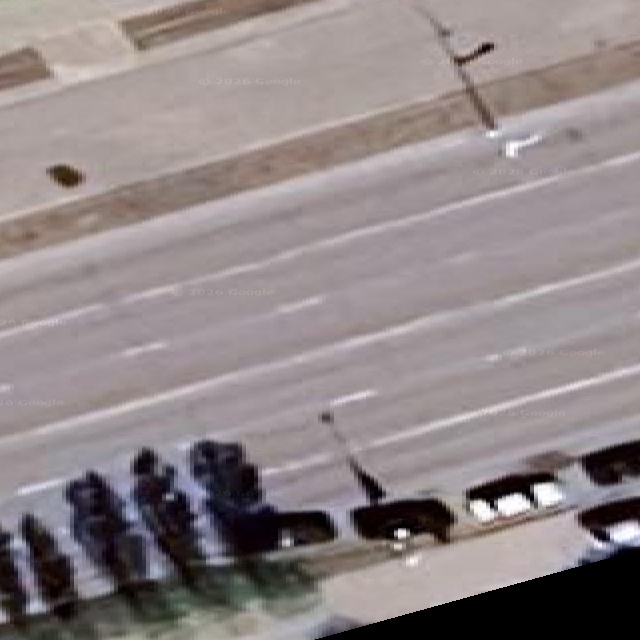car: (188, 440, 336, 557), (66, 471, 147, 601), (132, 448, 205, 586), (20, 514, 78, 619), (465, 472, 564, 524), (581, 441, 640, 486)
